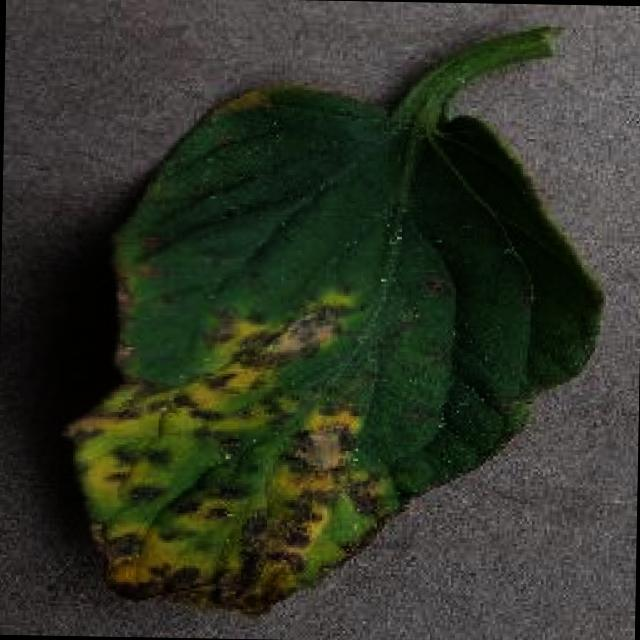Tomato bacterial spot leaf: (49, 71, 610, 632)
